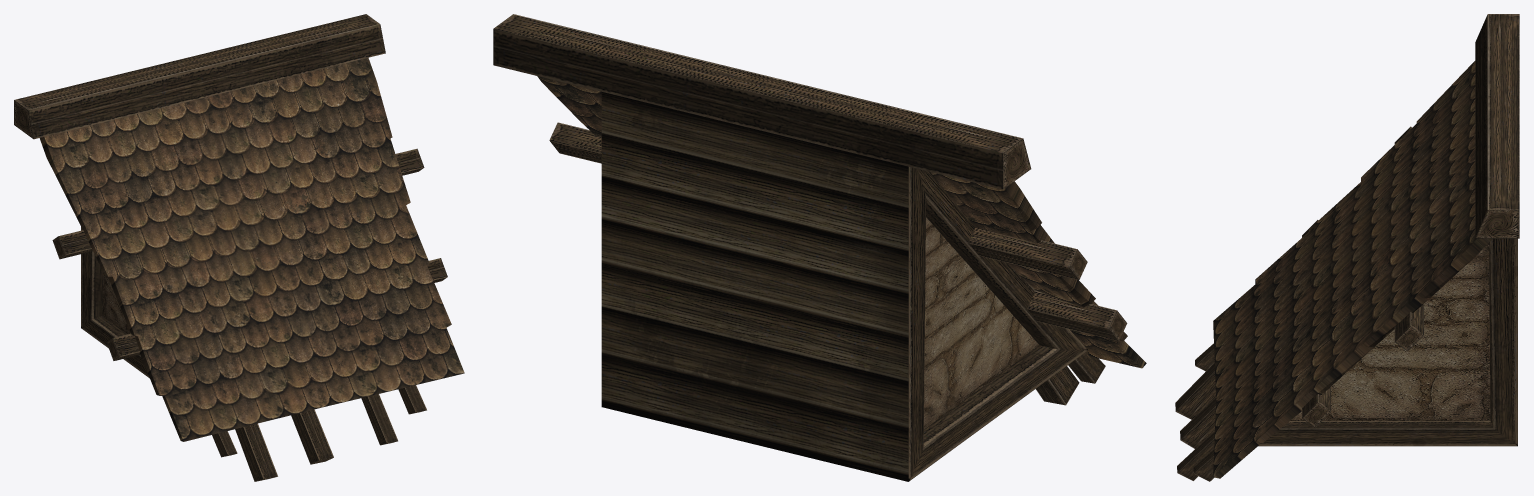
Rendered from Roof_4X4_02b.fbx.
The picture shows the model from 3 angles, left to right: view 1: azimuth 30°, elevation 25°; view 2: azimuth 150°, elevation 25°; view 3: azimuth 270°, elevation 25°; orthographic projection. The views are drawn at different scales.
Parts seen in each view (by area): view 1: Roof_4X4_02b; view 2: Roof_4X4_02b; view 3: Roof_4X4_02b.
Part boxes in pixels (x1,y1,x2,y2): Roof_4X4_02b: (14, 14, 464, 481); Roof_4X4_02b: (493, 14, 1146, 481); Roof_4X4_02b: (1175, 14, 1519, 481).
Bounding box in the file's own units: 6.77 × 5.46 × 4.94.
